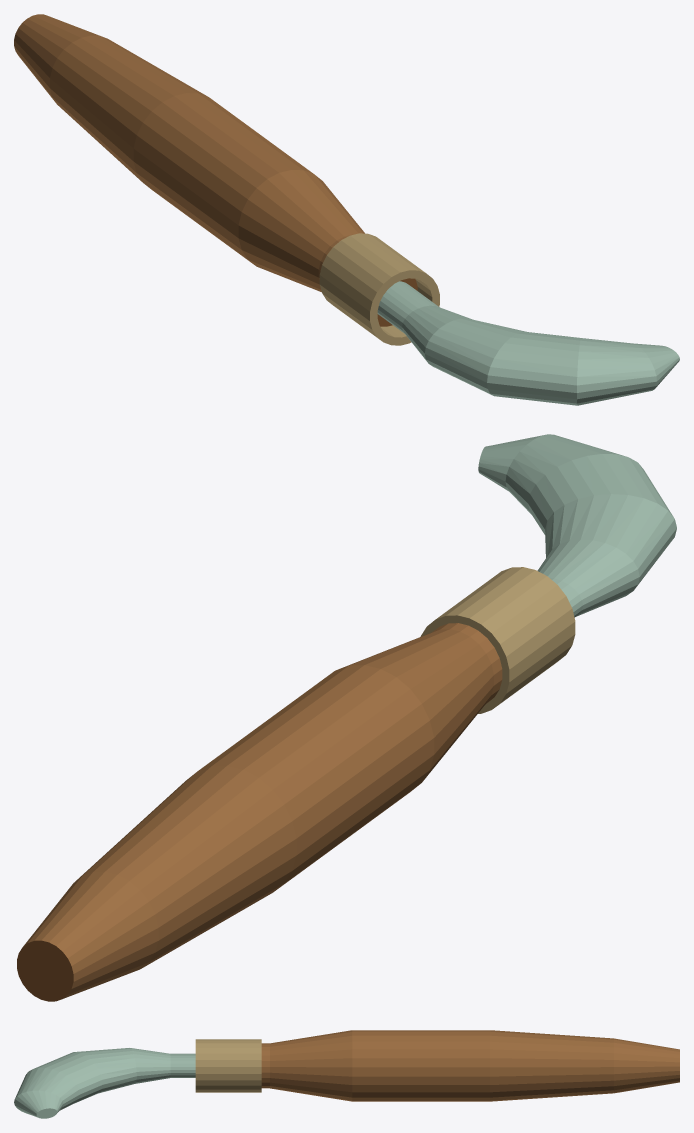
The picture shows the model from 3 angles, top to bottom: view 1: azimuth 30°, elevation 25°; view 2: azimuth 150°, elevation 25°; view 3: azimuth 270°, elevation 25°; orthographic projection. The views are drawn at different scales.
Visible parts, largest first — view 1: WholeLongTaperedWoodGrip, WholeContinuousRoundedCurvedStoneAndRoot, WholeAnnularFixedMetalCollar; view 2: WholeLongTaperedWoodGrip, WholeContinuousRoundedCurvedStoneAndRoot, WholeAnnularFixedMetalCollar; view 3: WholeLongTaperedWoodGrip, WholeContinuousRoundedCurvedStoneAndRoot, WholeAnnularFixedMetalCollar.
Part boxes in pixels (<box>): WholeLongTaperedWoodGrip: <box>14,14,417,326</box>; WholeContinuousRoundedCurvedStoneAndRoot: <box>377,281,679,405</box>; WholeAnnularFixedMetalCollar: <box>319,233,439,345</box>; WholeLongTaperedWoodGrip: <box>17,623,502,1001</box>; WholeContinuousRoundedCurvedStoneAndRoot: <box>478,434,676,617</box>; WholeAnnularFixedMetalCollar: <box>420,567,575,713</box>; WholeLongTaperedWoodGrip: <box>261,1030,679,1101</box>; WholeContinuousRoundedCurvedStoneAndRoot: <box>14,1048,195,1118</box>; WholeAnnularFixedMetalCollar: <box>195,1039,261,1092</box>.
Size of the model in its own units: 0.0552 by 0.0258 by 0.242.
